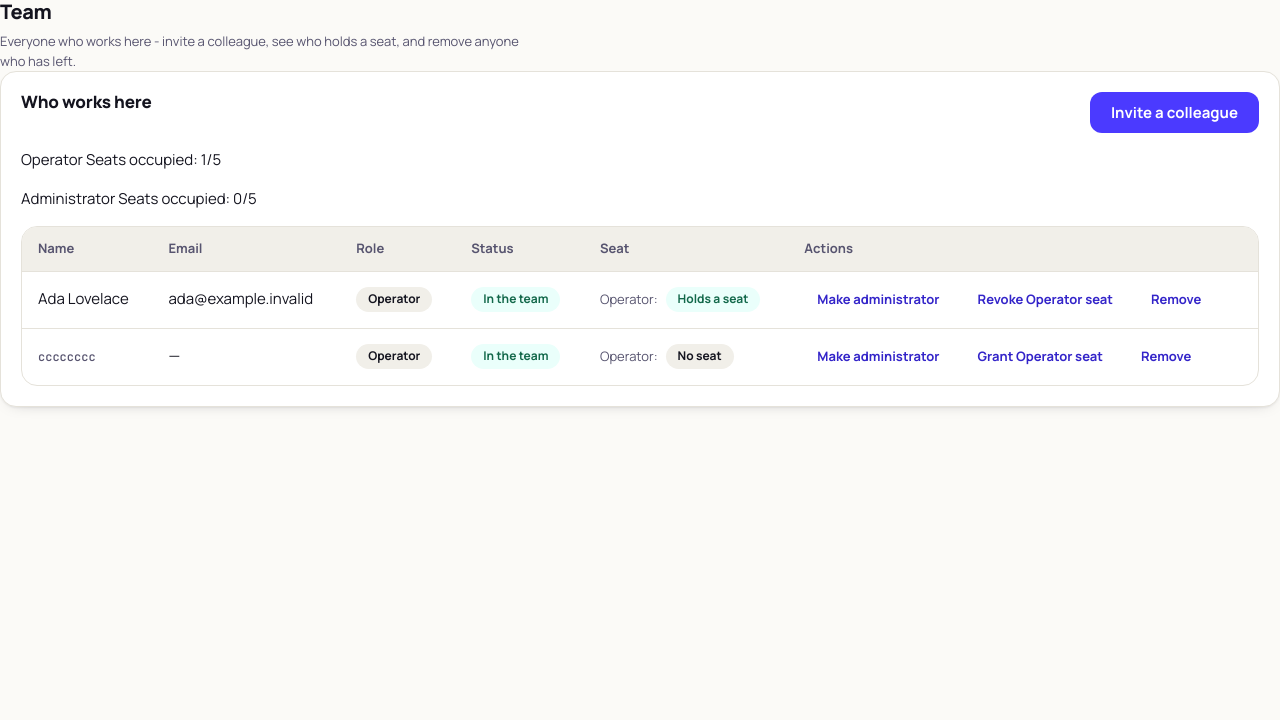
Scenario: the invite dialog's role multi-select › shows a cost line per selected role, updating live as roles are ticked
Click the button "Invite a colleague" at coordinates (1174, 112), box x1=1090 y1=92 x2=1259 y2=133
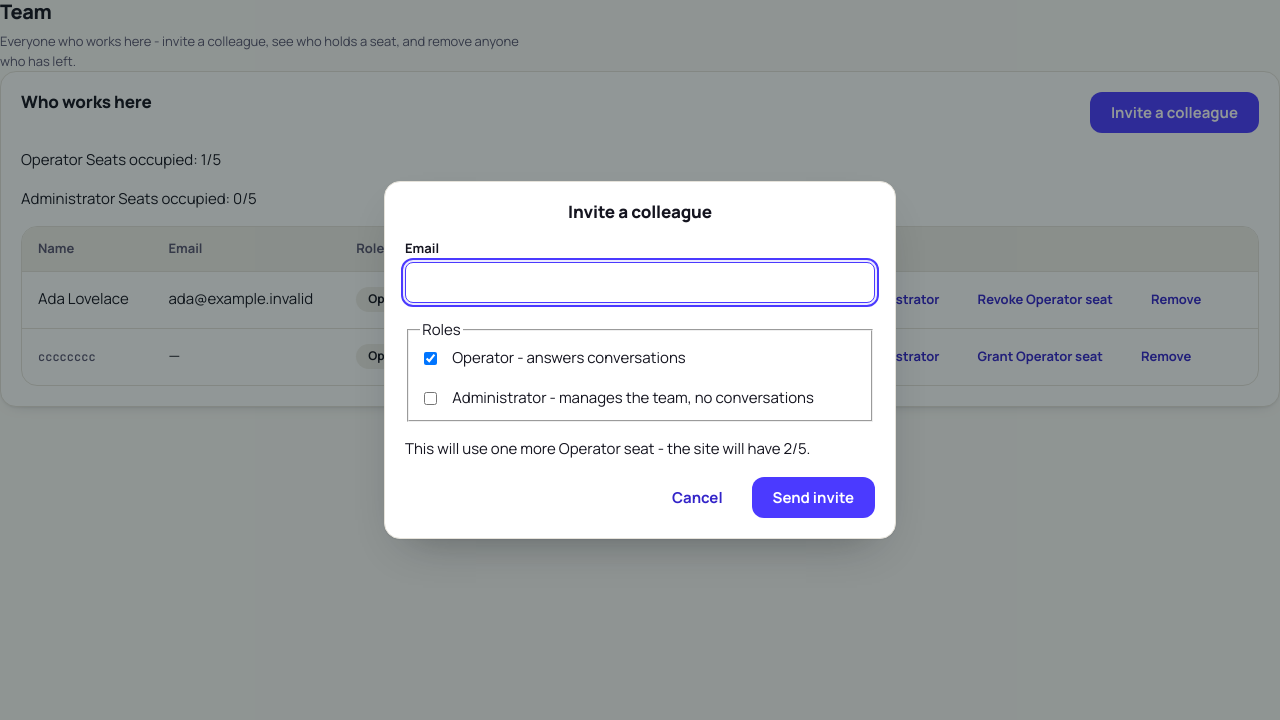
Expected: the text "This will use one more Administrator seat" is not shown
Result: the text "This will use one more Operator seat" is shown at x1=405 y1=438 x2=780 y2=459
Click the checkbox labelled "Administrator - manages the team, no conversations" at coordinates (431, 399), box x1=424 y1=392 x2=437 y2=405
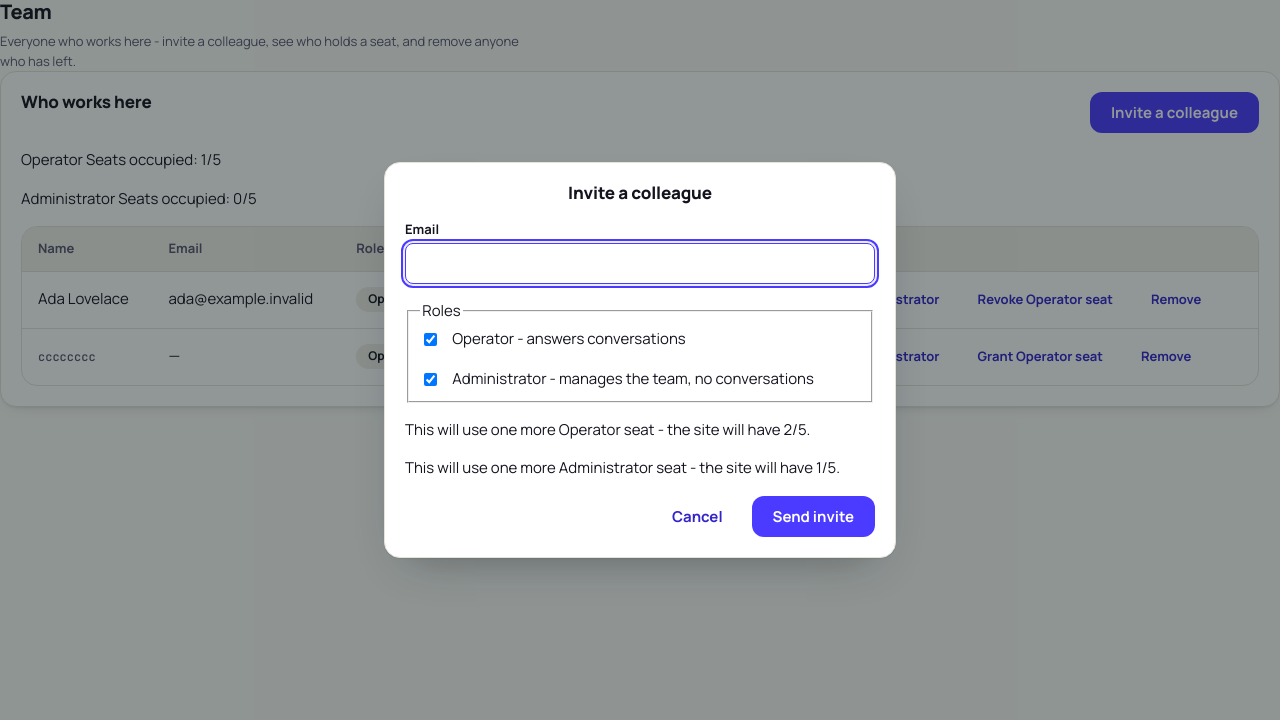
Result: the text "This will use one more Operator seat" is shown at x1=405 y1=419 x2=780 y2=440
Result: the text "This will use one more Administrator seat" is shown at x1=405 y1=457 x2=813 y2=478
Click the checkbox labelled "Operator - answers conversations" at coordinates (431, 339), box x1=424 y1=333 x2=437 y2=346
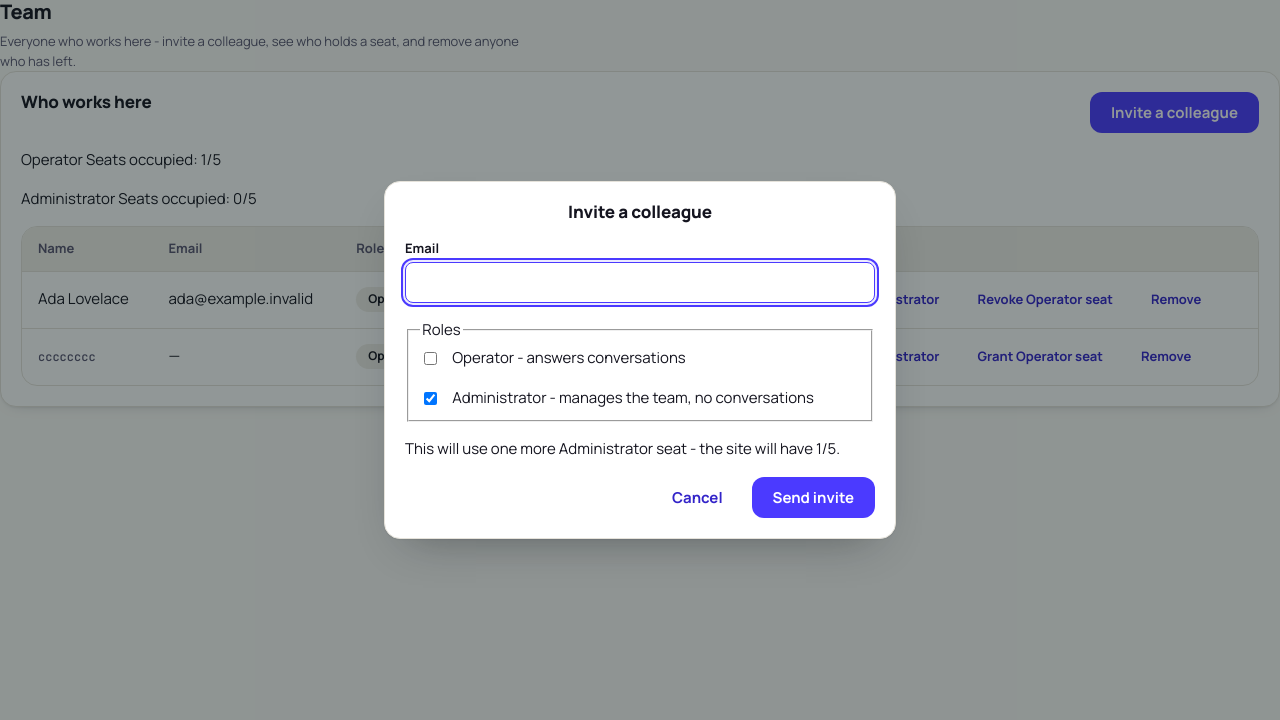
Result: the text "This will use one more Administrator seat" is shown at x1=405 y1=438 x2=813 y2=459
Result: the text "This will use one more Operator seat" is gone
